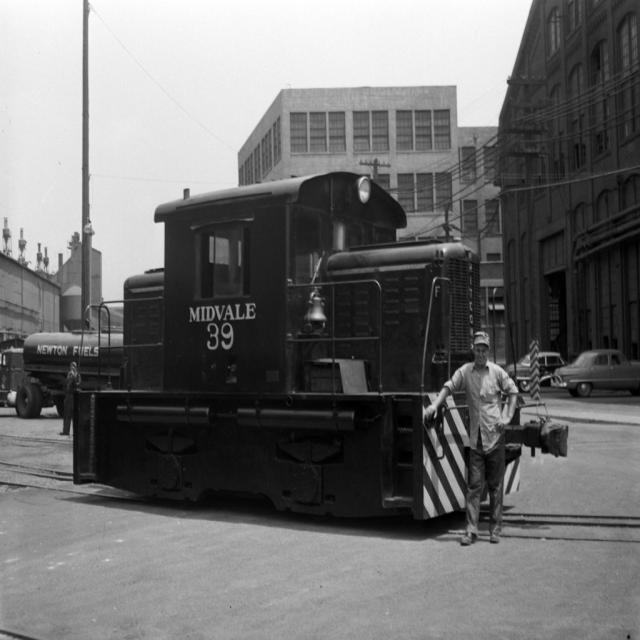car: (559, 347, 633, 402)
